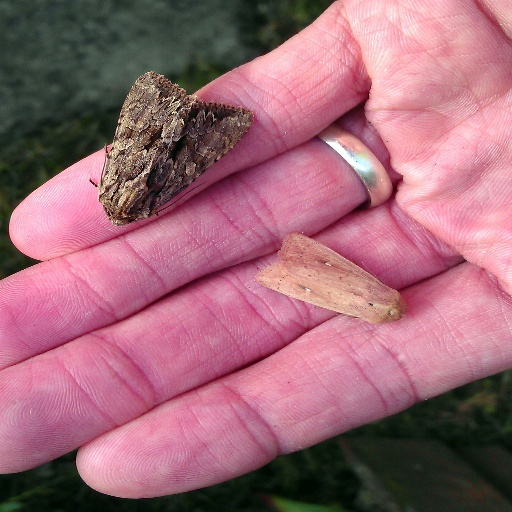hand: (52, 0, 512, 456)
